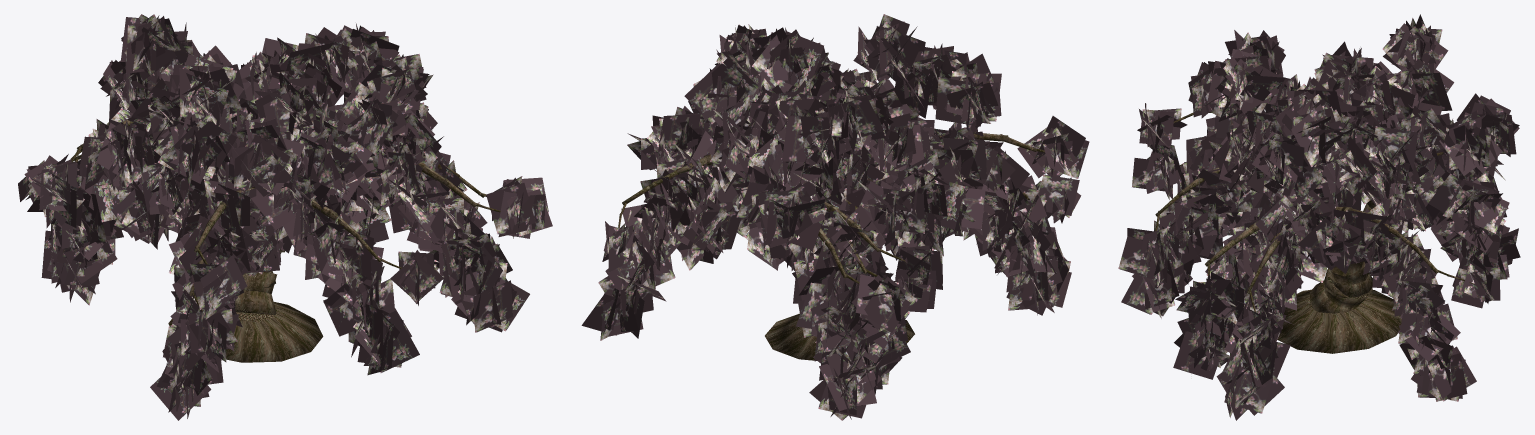
File: blossom_5.glb
3 renders of one model, left to right at view 1: azimuth 30°, elevation 25°; view 2: azimuth 150°, elevation 25°; view 3: azimuth 270°, elevation 25°, orthographic. The views are drawn at different scales.
Visible parts, largest first — view 1: blossom; view 2: blossom; view 3: blossom.
Part boxes in pixels (<box>): blossom: <box>18,14,552,420</box>; blossom: <box>581,14,1089,420</box>; blossom: <box>1118,14,1520,420</box>.
Bounding box in the file's own units: 25.68 × 18.01 × 23.06.
Materials: 2 (2 with a texture image).
